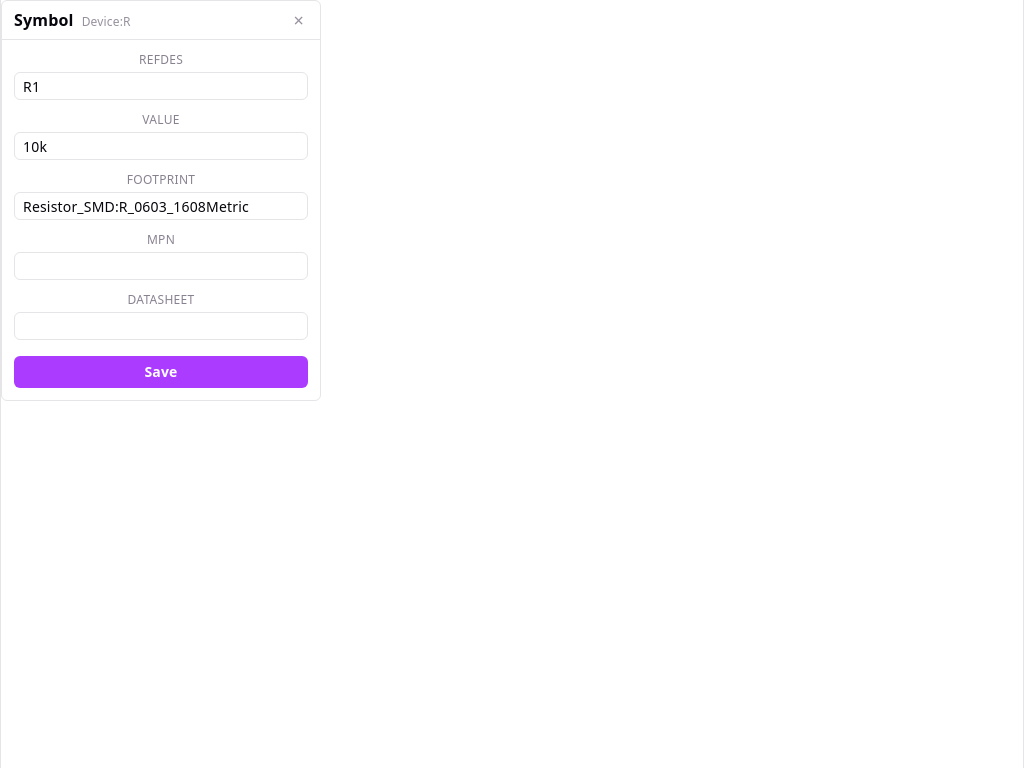
PropertyPanel › rejects an empty refdes before the request
The width and height of the screenshot is (1024, 768).
Clear the field with test id "property-refdes" at {"x": 161, "y": 86}, box [14, 72, 308, 100]
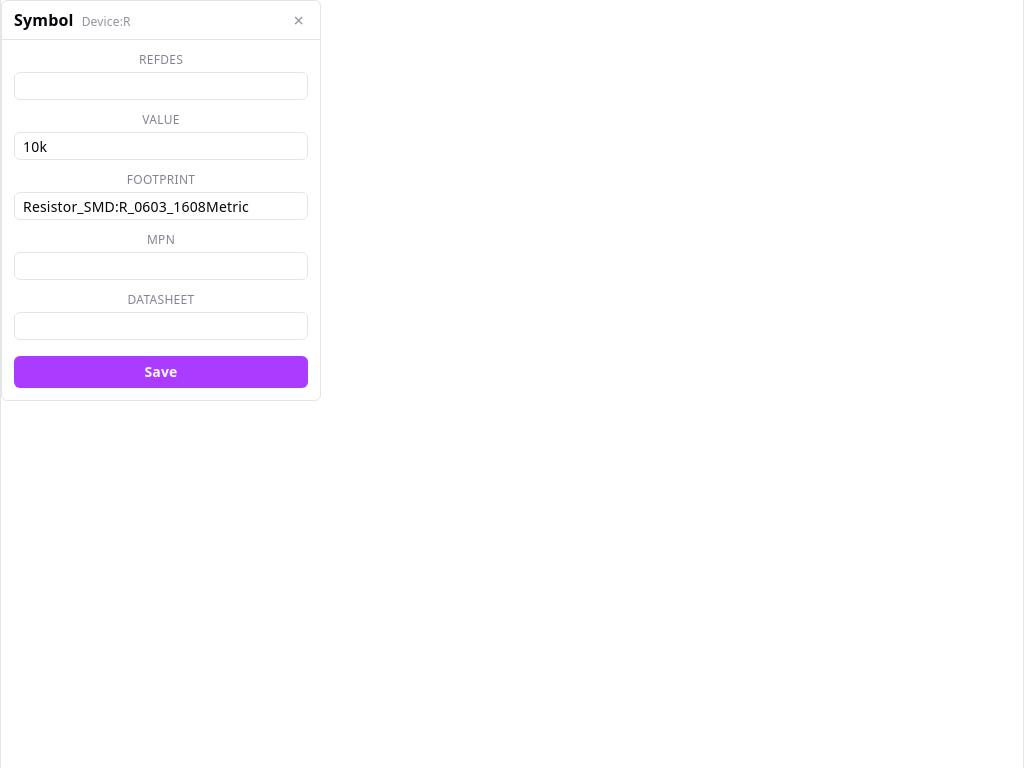
Click the button with test id "property-save" at {"x": 161, "y": 372}, box [14, 356, 308, 388]
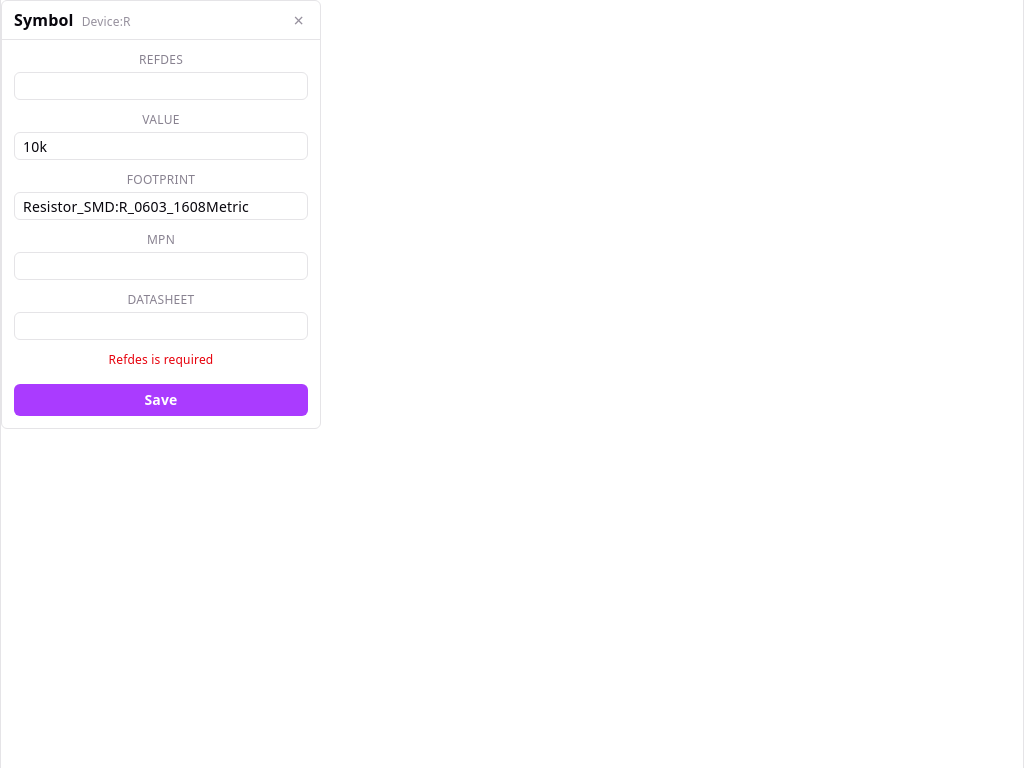
Now the text with test id "property-error" shows "Refdes", box [109, 351, 213, 368]
